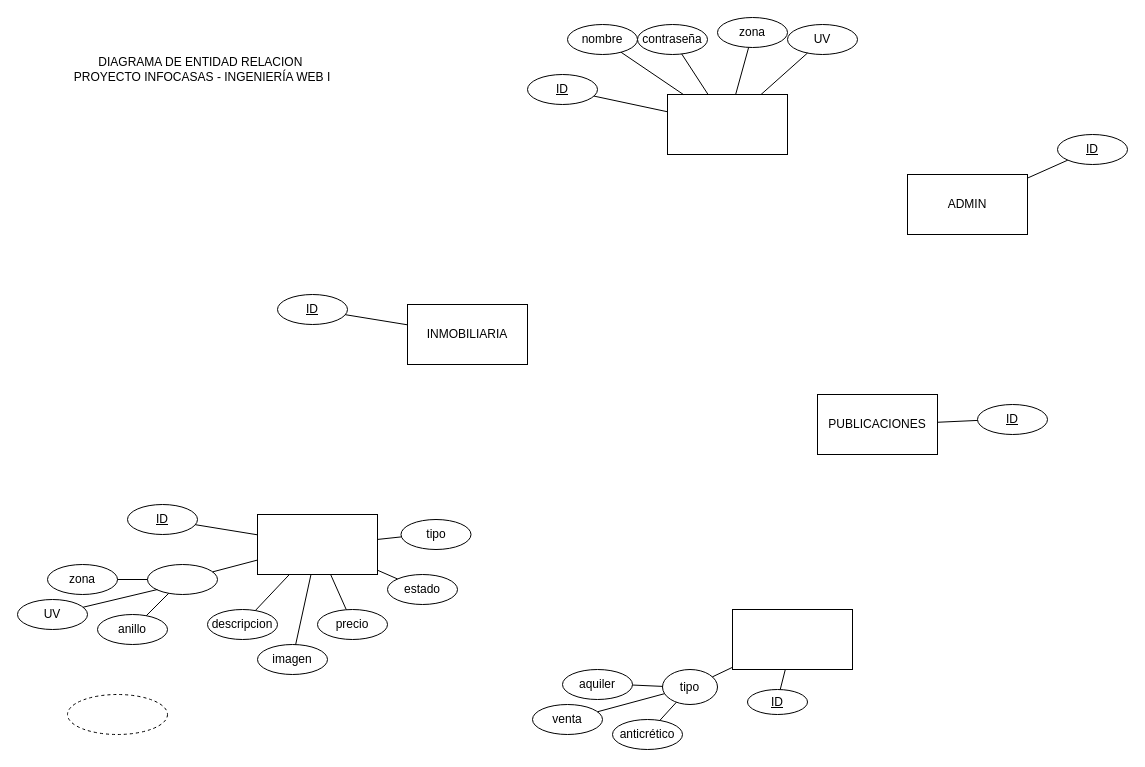
Image size: 1145x767. Some labels were removed from this diagram. Here are the shapes that lost their labels. From the top down, the centre of each, then its label:
the point at 727,124: USUARIO
the point at 317,544: PROPIEDAD
the point at 182,579: ubicacion
the point at 792,639: CATEGORIA
the point at 117,714: Attribute
